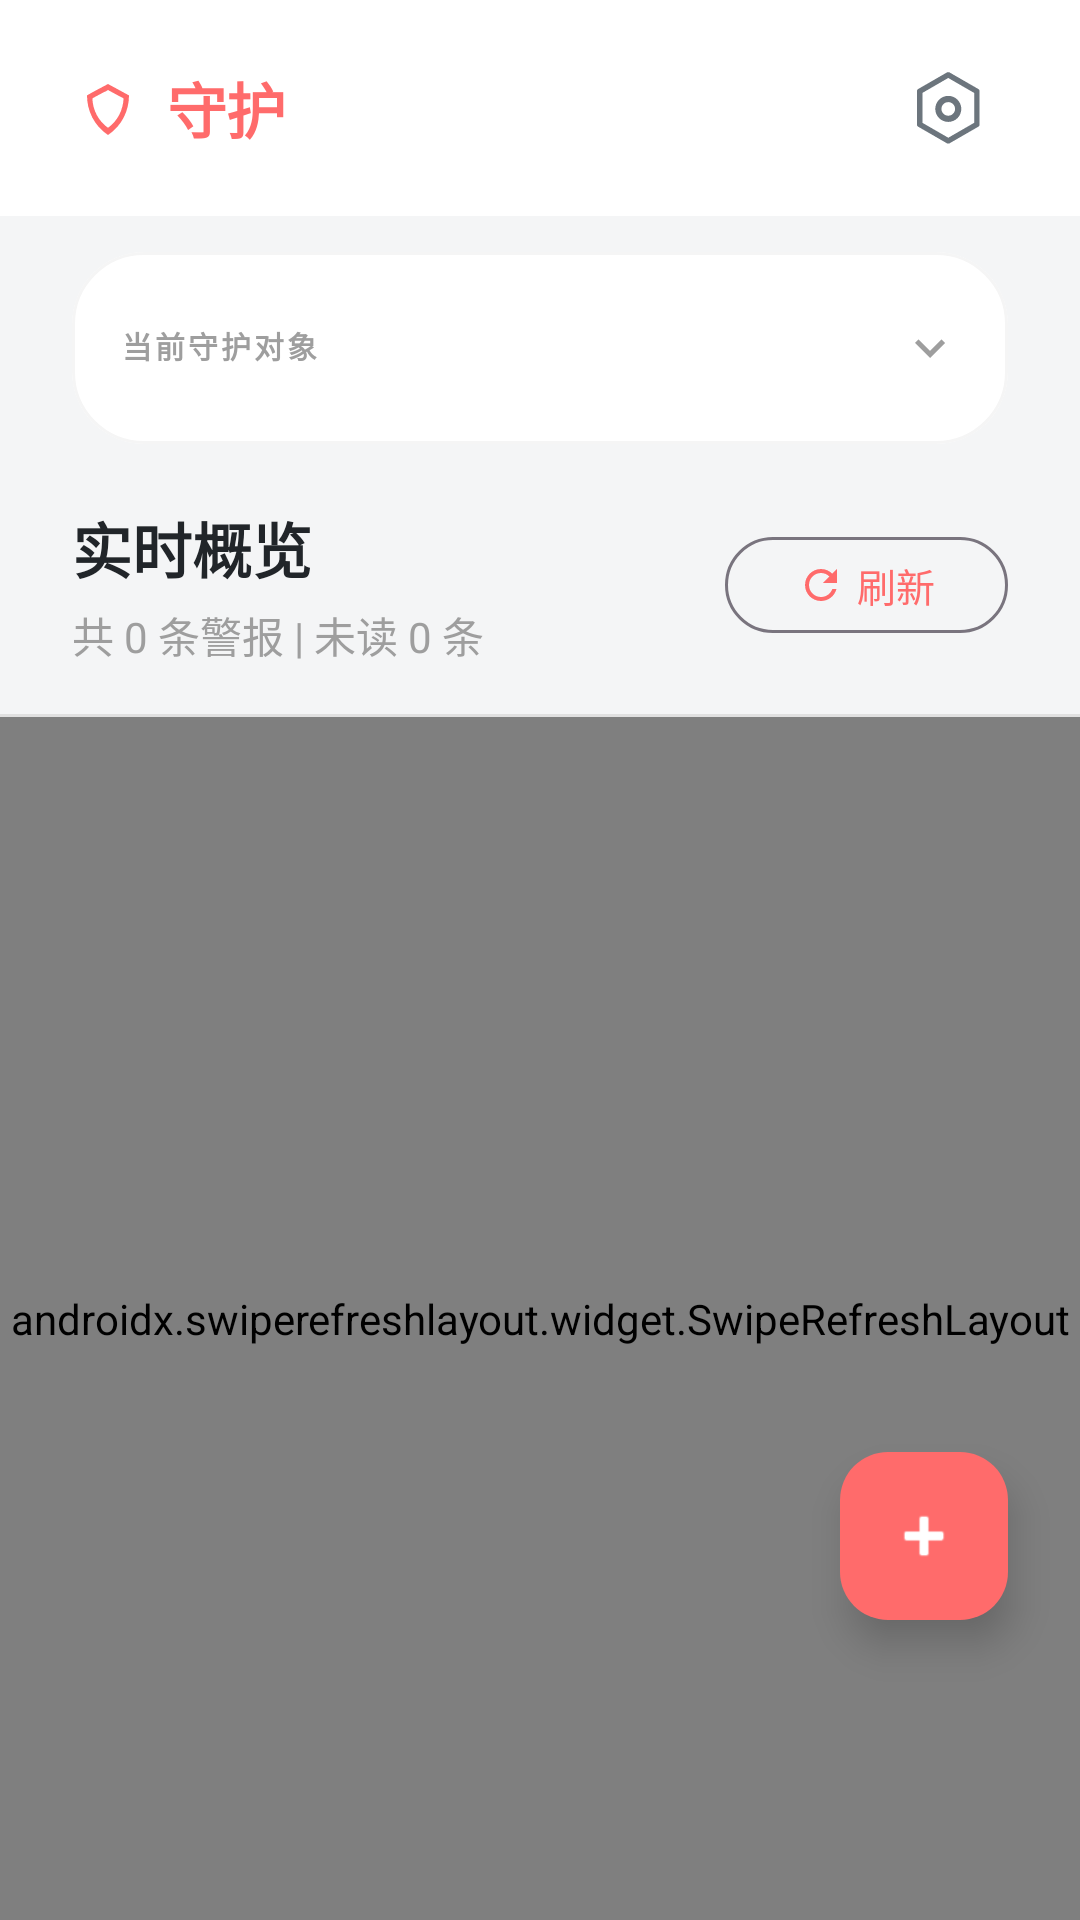

Where to tap for icons on this 1080w x 1920h app screen, as (x,y):
guardian shield: (108,109)
下拉选择: (930,348)
